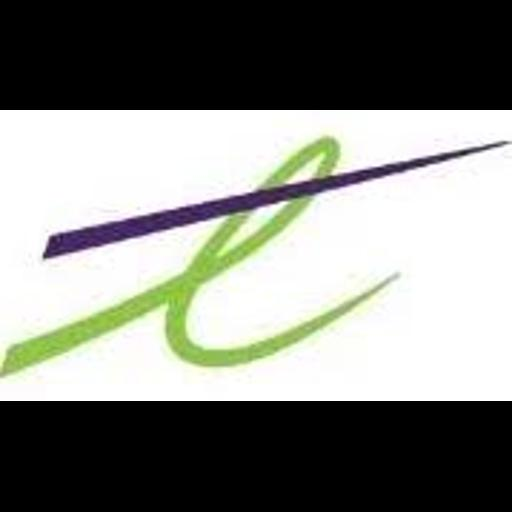Telus: (0, 110, 512, 401)
